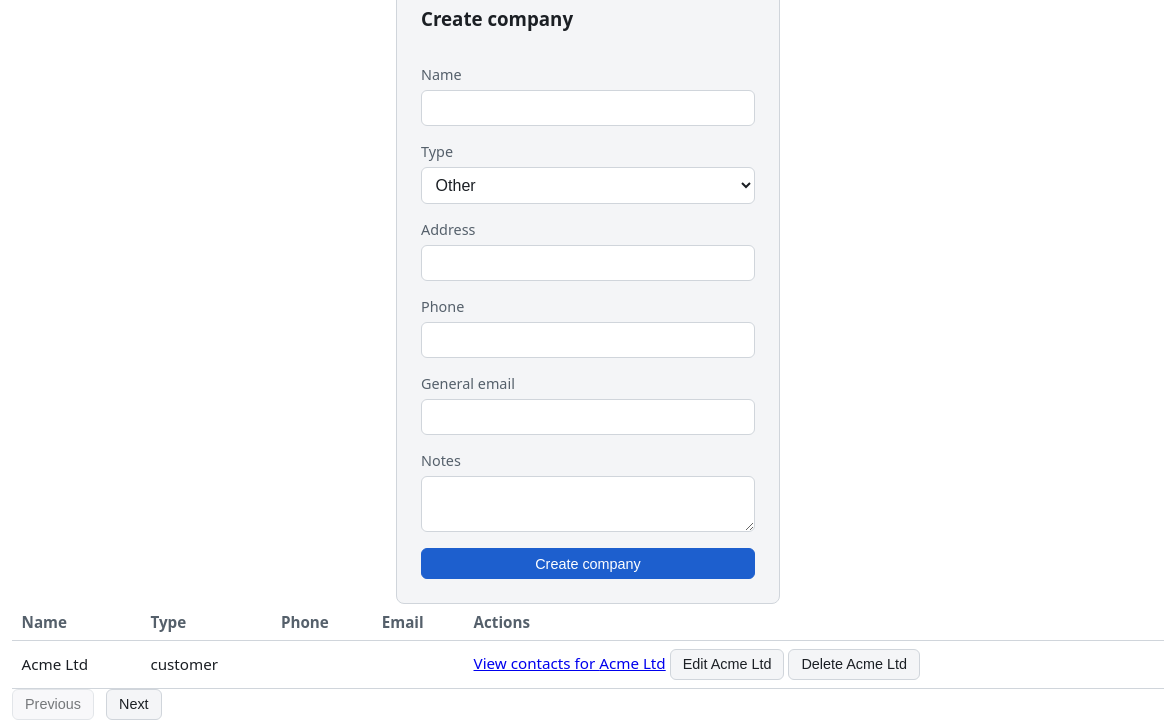
Test case: CompaniesPage › paginates using the total count
(page scrolled)
Expected: the text "Acme Ltd" is shown, x1=12 y1=640 x2=141 y2=688
Expected: the button "Previous" is disabled, x1=12 y1=689 x2=94 y2=719
Click the button "Next". click: (134, 704)
box: x1=106 y1=689 x2=162 y2=719
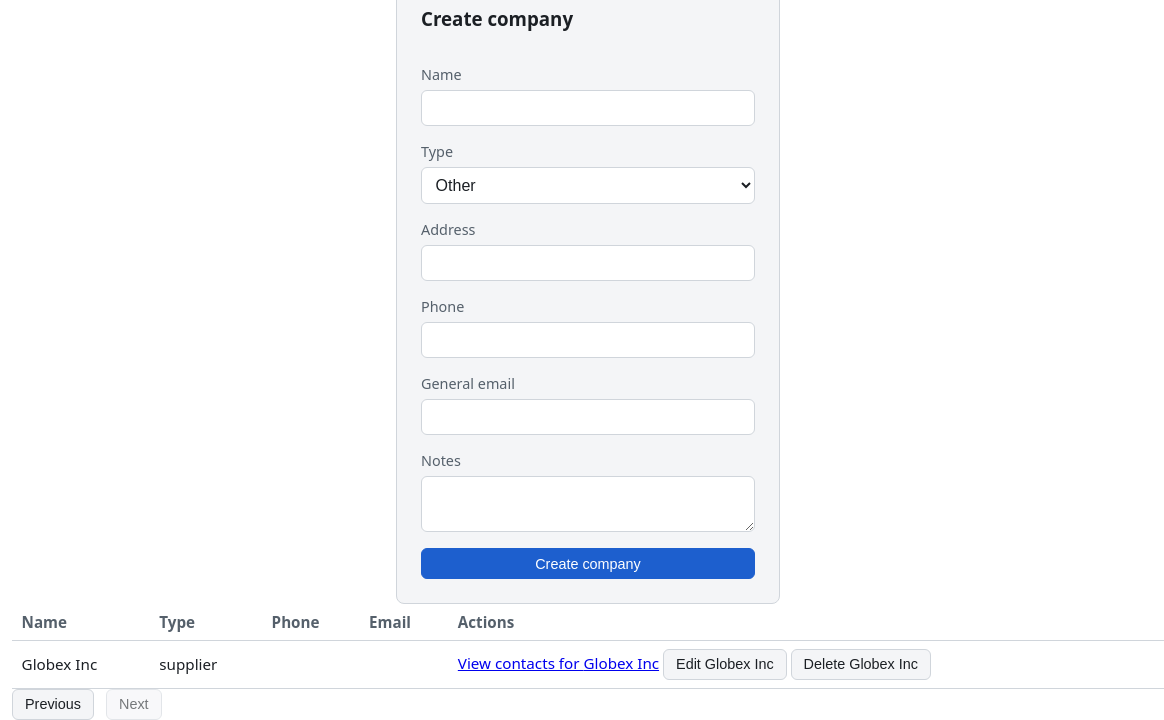
Expected: the text "Globex Inc" is shown, x1=12 y1=640 x2=150 y2=688
Expected: the button "Next" is disabled, x1=106 y1=689 x2=162 y2=719
